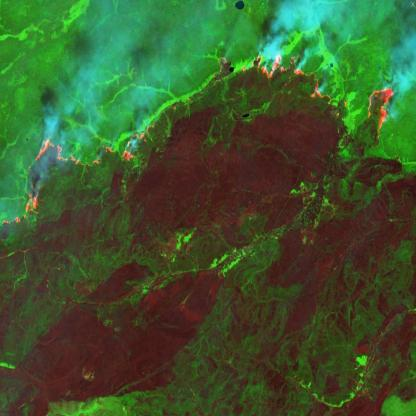fire: (214, 44, 396, 142), (0, 124, 159, 236)
